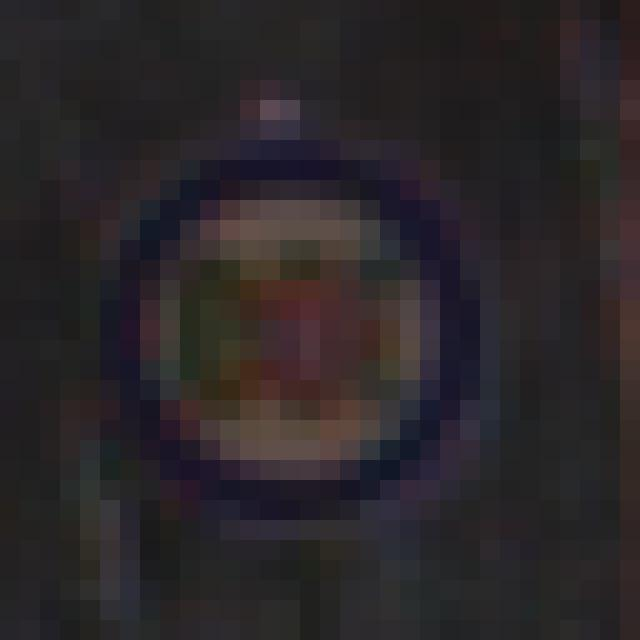SPEED LIMIT 100: (100, 139, 476, 528)
